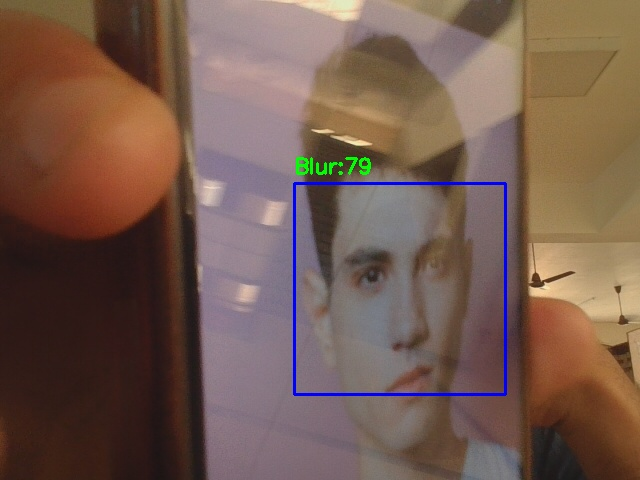fake: (294, 183, 505, 394)
